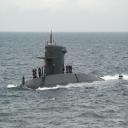submarine: (17, 32, 107, 89)
